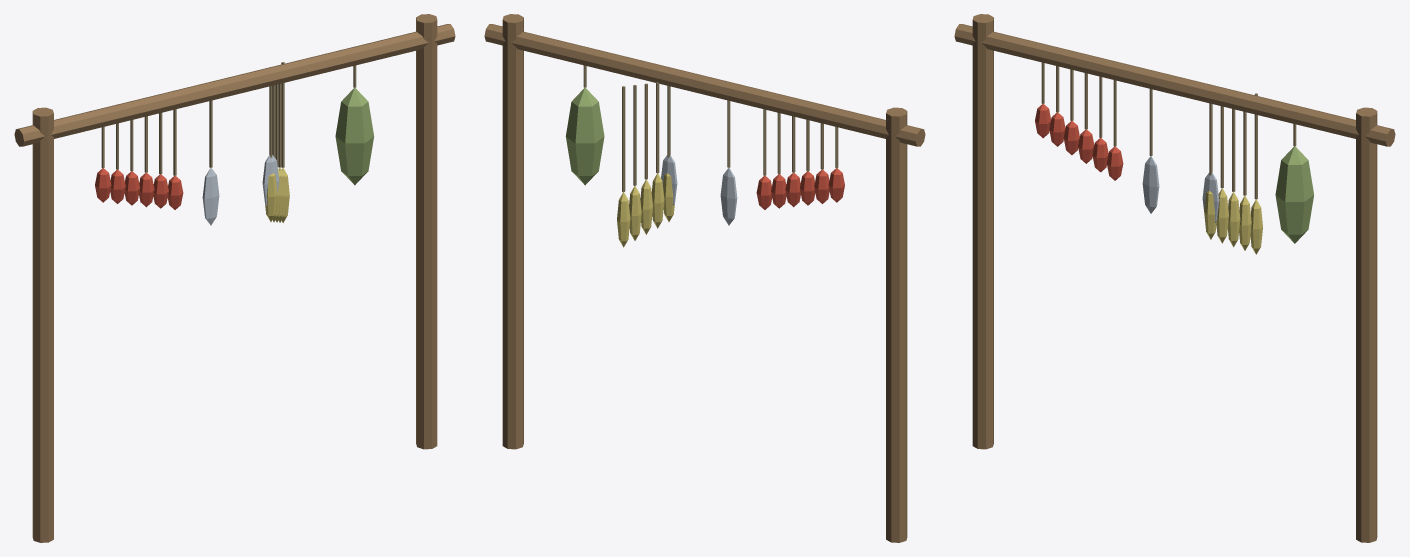
Rendered from hanging_rack.glb.
3 views of the same model, side by side, from view 1: azimuth 30°, elevation 25°; view 2: azimuth 150°, elevation 25°; view 3: azimuth 330°, elevation 25° (orthographic).
Visible parts, largest first — view 1: rack_post_r, rack_post_l, rack_bar, herb_bundle, hang_fish_0; view 2: rack_post_r, rack_post_l, rack_bar, herb_bundle, hang_fish_0, banana_4, banana_2, banana_1, banana_3; view 3: rack_post_l, rack_post_r, rack_bar, herb_bundle, hang_fish_0, banana_2, banana_3, banana_4, banana_1.
Boxes of the visible parts, box(x1,y1,x2,y2) form: rack_post_r: box(416, 14, 437, 449); rack_post_l: box(32, 107, 53, 542); rack_bar: box(14, 24, 455, 146); herb_bundle: box(335, 88, 374, 185); hang_fish_0: box(202, 168, 219, 225); rack_post_r: box(502, 14, 523, 449); rack_post_l: box(886, 107, 907, 542); rack_bar: box(484, 24, 925, 146); herb_bundle: box(565, 87, 604, 185); hang_fish_0: box(720, 167, 737, 225); banana_4: box(617, 192, 630, 247); banana_2: box(640, 179, 652, 234); banana_1: box(651, 173, 664, 228); banana_3: box(629, 186, 641, 240); rack_post_l: box(972, 14, 993, 449); rack_post_r: box(1356, 107, 1377, 542); rack_bar: box(954, 24, 1395, 146); herb_bundle: box(1275, 146, 1313, 243); hang_fish_0: box(1142, 156, 1159, 213); banana_2: box(1227, 192, 1240, 247); banana_3: box(1239, 196, 1251, 250); banana_4: box(1250, 199, 1262, 254); banana_1: box(1216, 188, 1228, 243).
Bounding box in the file's own units: 1.8 × 1.7 × 0.2145.
